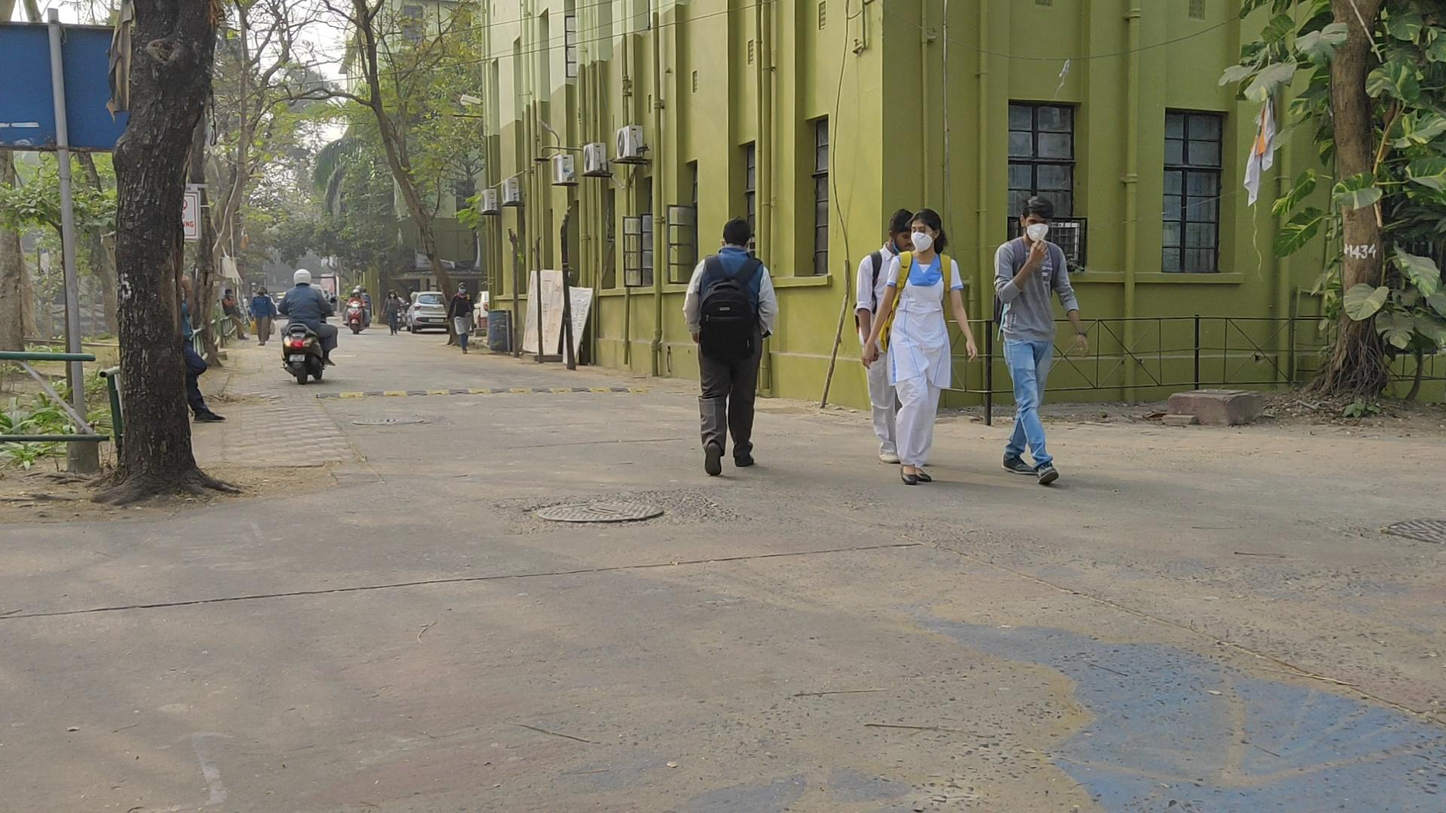bike: (279, 269, 336, 384), (343, 285, 368, 335)
car: (407, 291, 451, 334)
